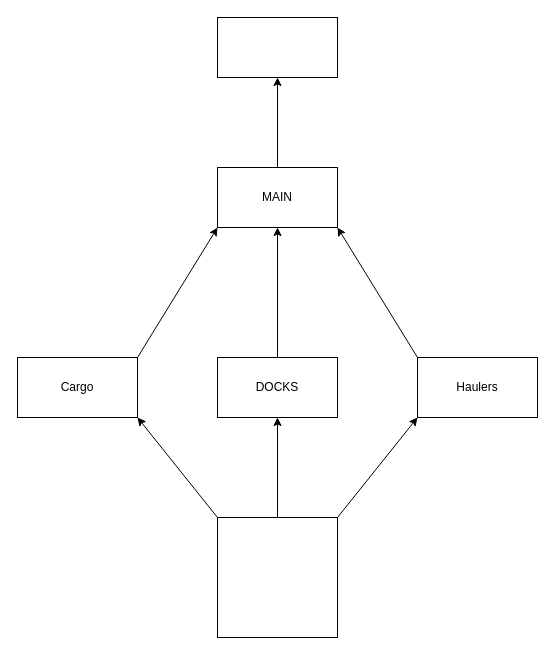
The diagram is 555 pixels wide and 655 high, and some of its shapes have lost their labels. The centre of each missing label's shape, as x and y in pixels:
"Database" goes at (277,577).
"HTML" goes at (277,47).
